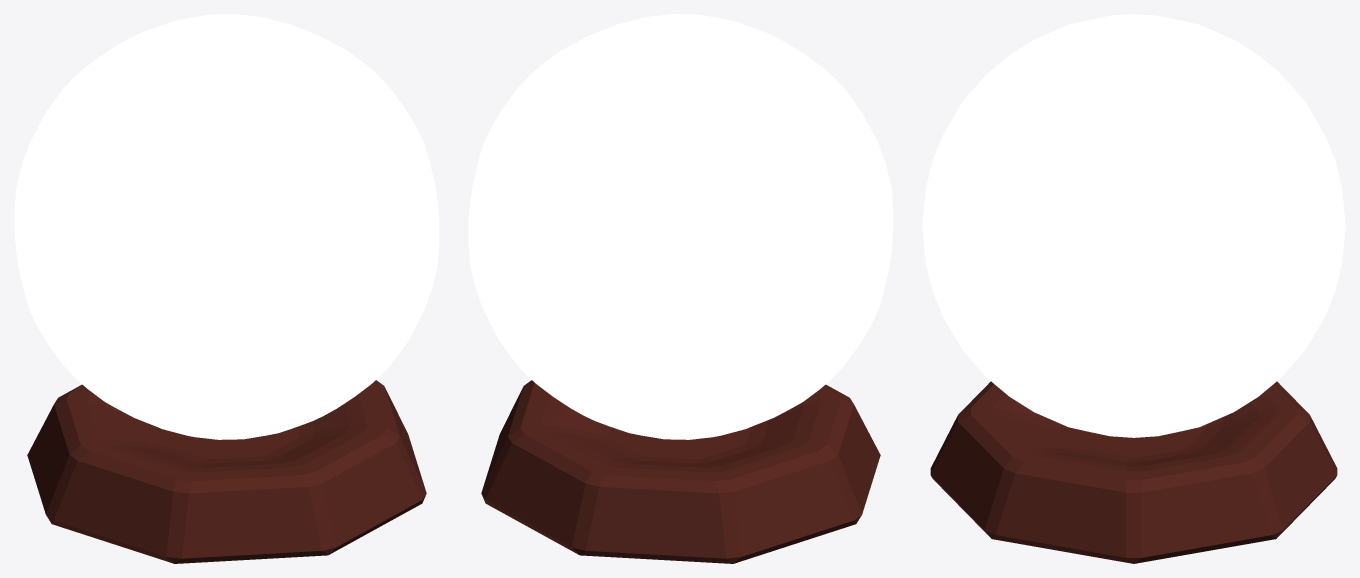
Rendered from MemoriesSphere.fbx.
3 renders of one model, left to right at view 1: azimuth 30°, elevation 25°; view 2: azimuth 150°, elevation 25°; view 3: azimuth 270°, elevation 25°, orthographic.
Visible parts, largest first — view 1: MemoriesSphere; view 2: MemoriesSphere; view 3: MemoriesSphere.
Boxes of the visible parts, left/top/right/bottom form: MemoriesSphere: left=14, top=14, right=439, bottom=563; MemoriesSphere: left=468, top=14, right=893, bottom=563; MemoriesSphere: left=922, top=14, right=1345, bottom=563.
Bounding box in the file's own units: 249 × 290 × 249.
